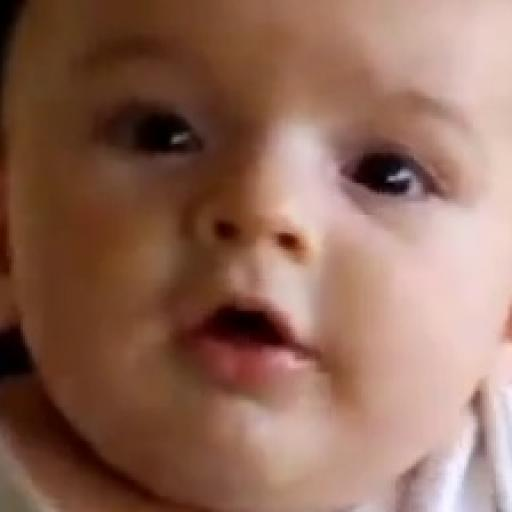Autism: (6, 6, 512, 480)
